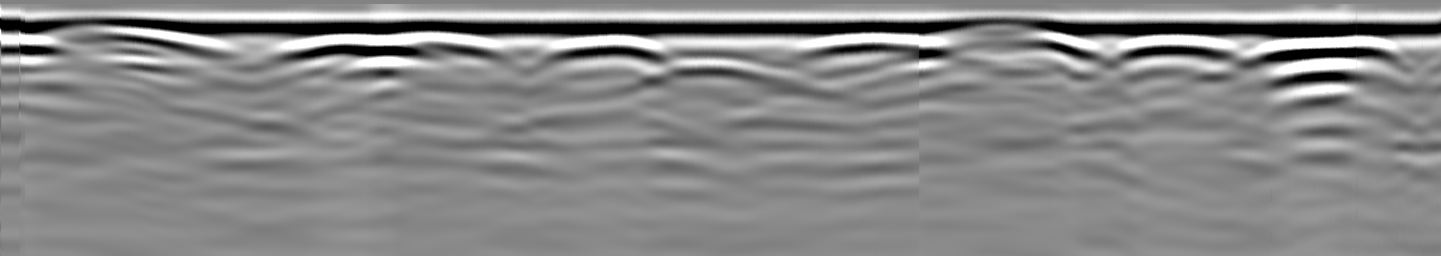pipe: (24, 16, 193, 51), (926, 18, 1082, 46)
steel: (1244, 34, 1407, 66), (274, 35, 426, 65), (793, 38, 948, 66), (544, 35, 668, 69), (1111, 34, 1244, 65), (389, 32, 505, 62)
